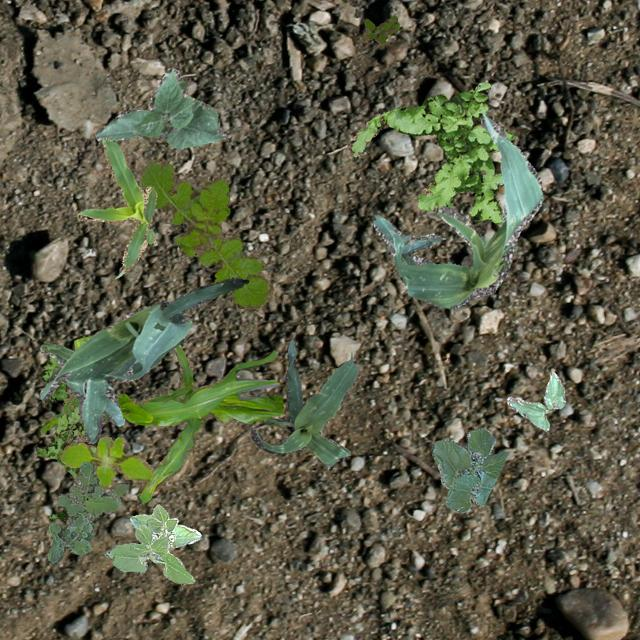crop: (40, 336, 282, 504), (39, 276, 248, 442), (372, 111, 542, 308), (250, 338, 358, 466), (74, 136, 156, 276), (95, 66, 226, 148), (104, 503, 200, 582), (430, 426, 508, 512), (506, 370, 564, 430)
weed: (346, 81, 514, 222), (138, 160, 272, 308), (36, 354, 96, 520), (46, 461, 126, 562), (59, 434, 152, 488), (362, 15, 398, 44)
